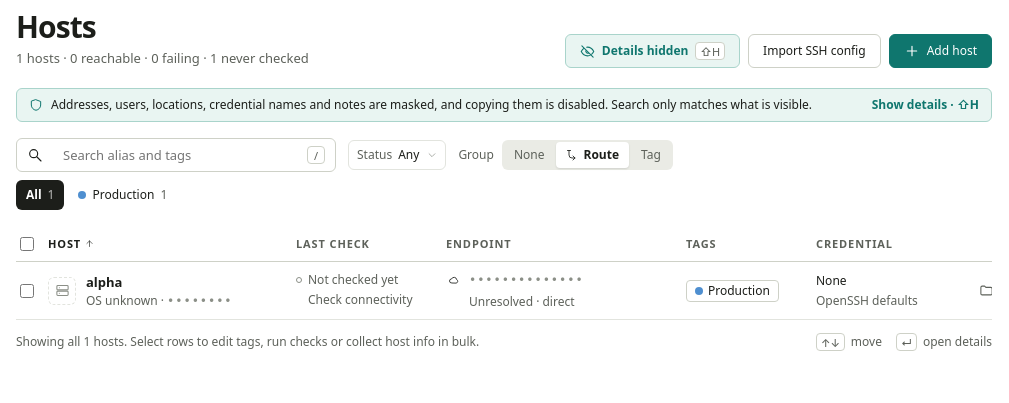
Test: does not render or search hidden endpoint, credential or note values
Type "private-note" into the field named "Search hosts" at [175, 155], box [51,137,299,173]
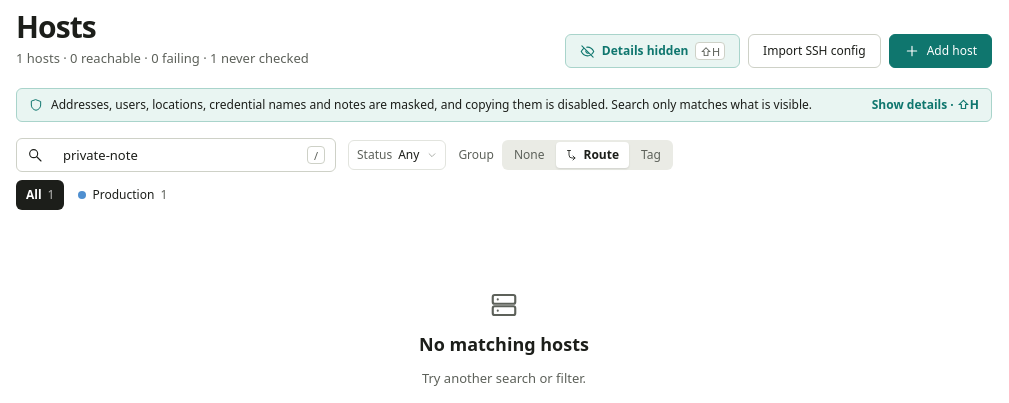
Check: the button "alpha" is gone
